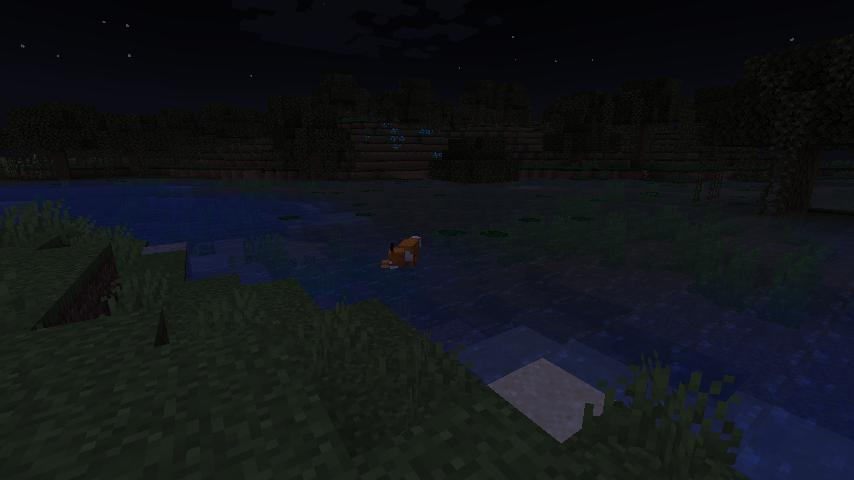fox: (375, 228, 427, 277)
